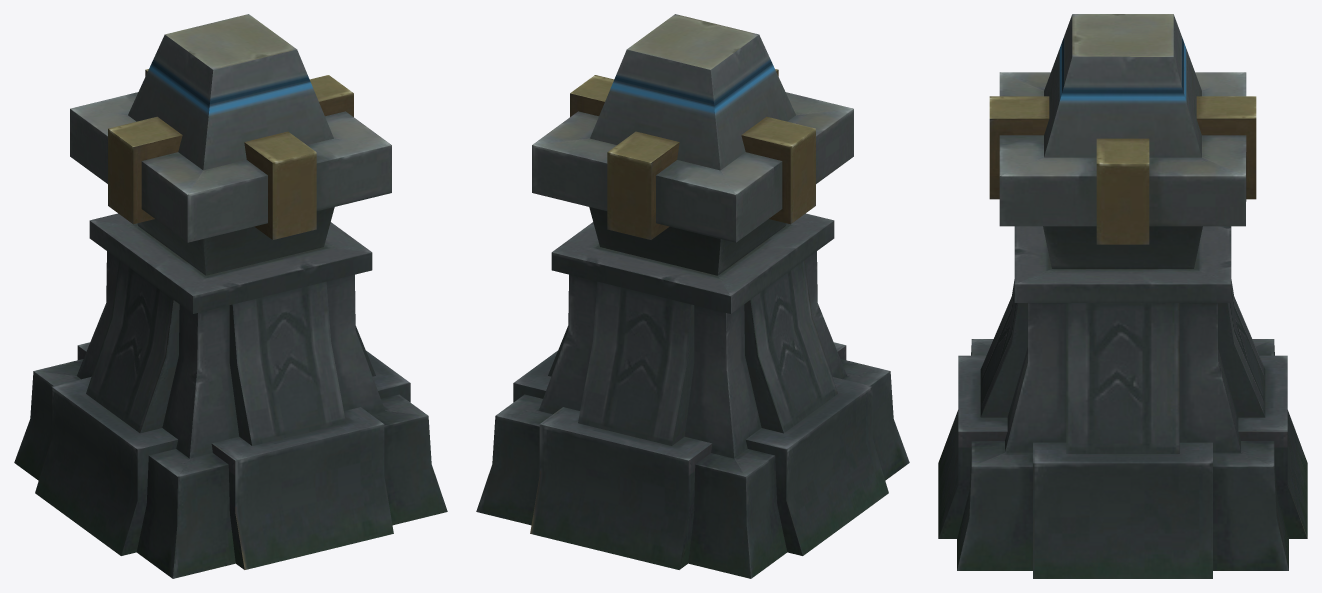
The model's file is Moba_dizuo01.FBX.
The picture shows the model from 3 angles, left to right: view 1: azimuth 30°, elevation 25°; view 2: azimuth 150°, elevation 25°; view 3: azimuth 270°, elevation 25°; orthographic projection. The views are drawn at different scales.
Visible parts, largest first — view 1: Moba_dizuo01; view 2: Moba_dizuo01; view 3: Moba_dizuo01.
Part boxes in pixels (<box>): Moba_dizuo01: <box>14,14,447,578</box>; Moba_dizuo01: <box>476,14,909,578</box>; Moba_dizuo01: <box>938,14,1307,578</box>.
Size of the model in its own units: 3.99 by 3.99 by 5.56.
